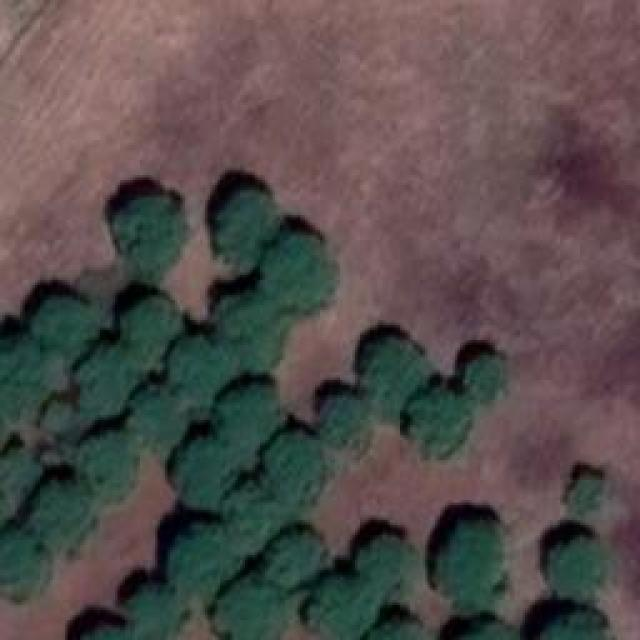Tree: (110, 190, 194, 274), (435, 523, 508, 602), (170, 428, 247, 496), (207, 185, 277, 259), (263, 433, 332, 506), (173, 525, 242, 596), (363, 333, 427, 409), (215, 478, 286, 546), (272, 238, 329, 319), (33, 295, 98, 366), (305, 582, 383, 640), (408, 384, 474, 452), (220, 382, 284, 452), (30, 488, 94, 554), (314, 388, 374, 456), (217, 580, 285, 640), (168, 338, 229, 403), (218, 290, 279, 352), (85, 428, 141, 495), (543, 538, 605, 598), (358, 528, 413, 594), (127, 295, 184, 358), (123, 580, 185, 636), (0, 527, 45, 604), (255, 523, 313, 582), (85, 348, 134, 411), (0, 340, 42, 411), (0, 440, 40, 506), (463, 351, 510, 404), (537, 610, 607, 639), (365, 615, 422, 639), (570, 475, 608, 508), (452, 623, 509, 640), (75, 623, 116, 640)
